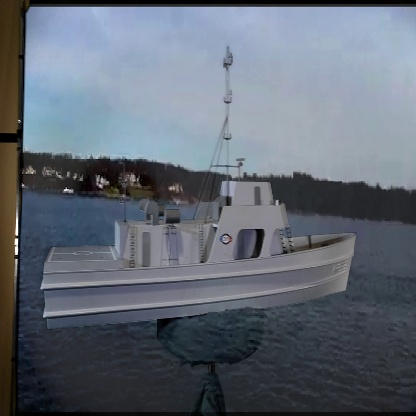YP689: (40, 44, 357, 333)
